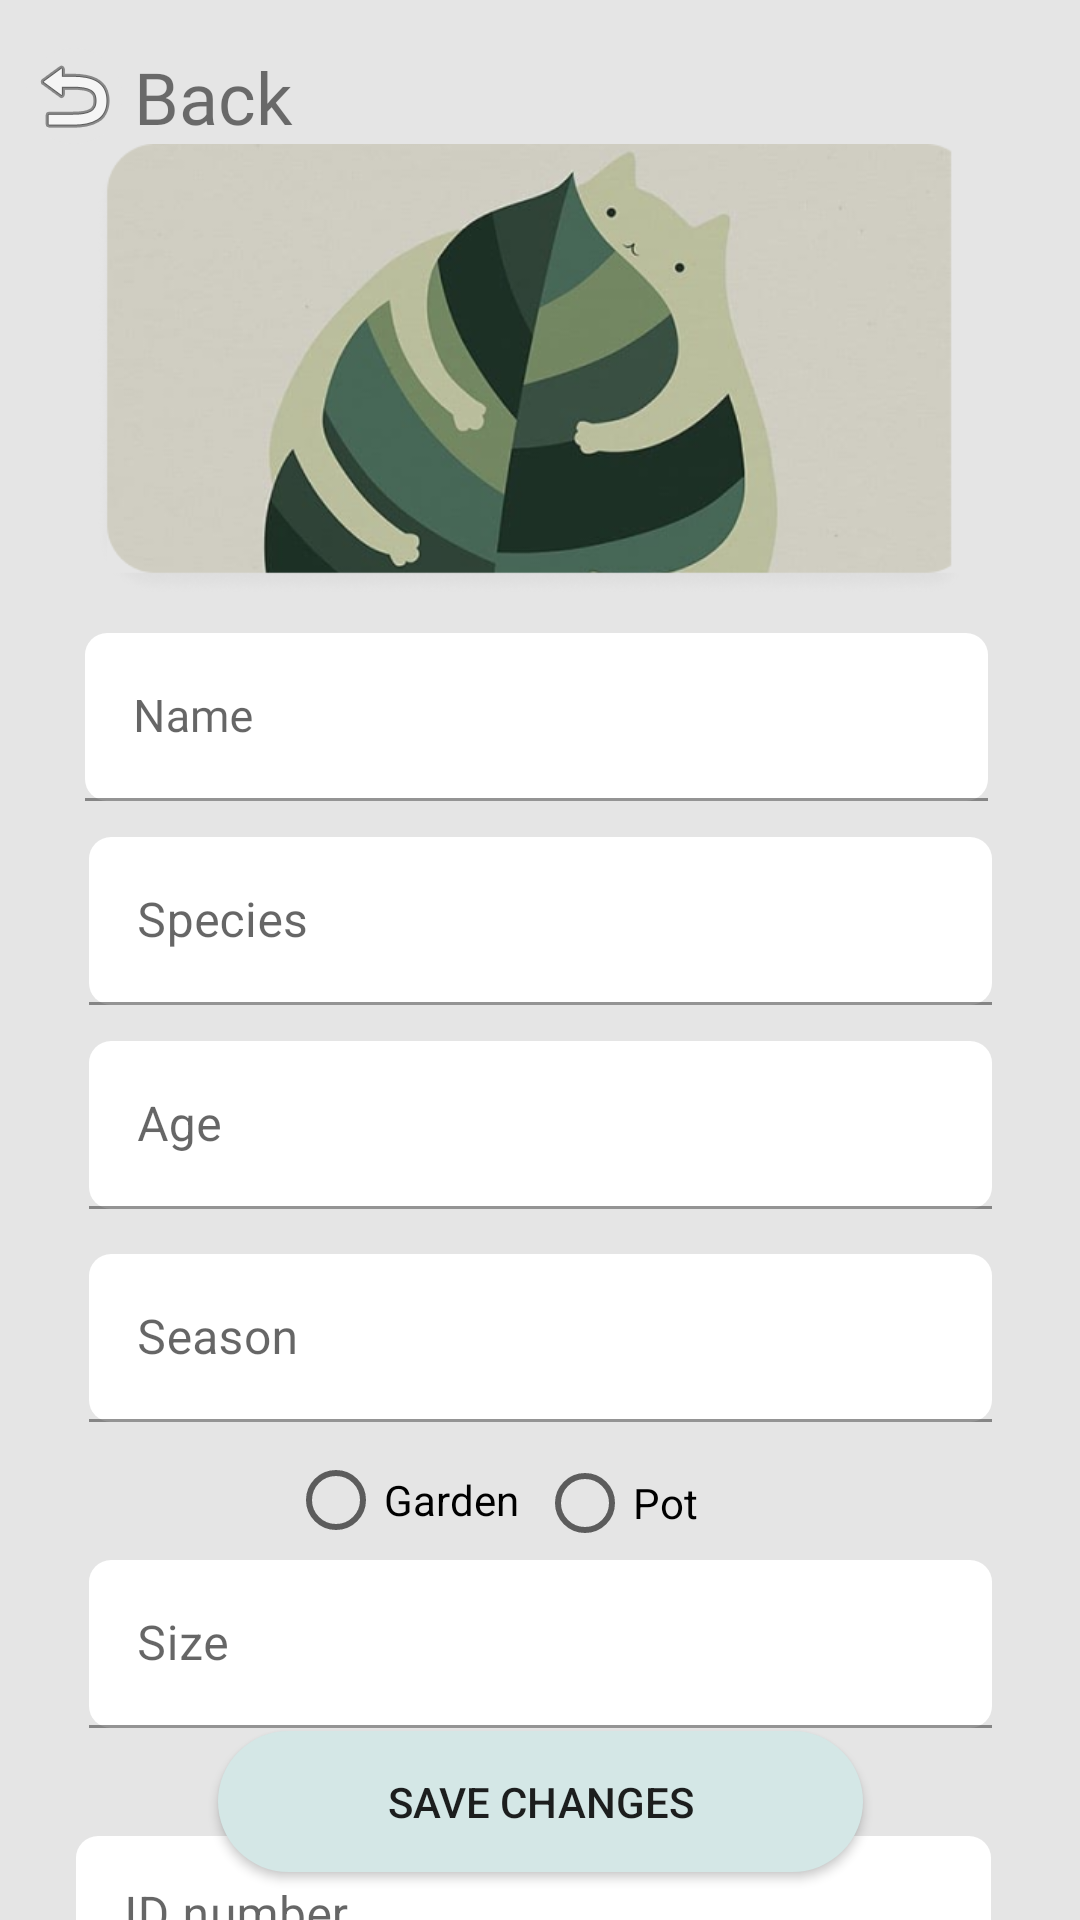

Where icons sit on this 1080w x 1920h app screen, as (x1,y1,x2,y2):
revert: (41,65,110,128)
